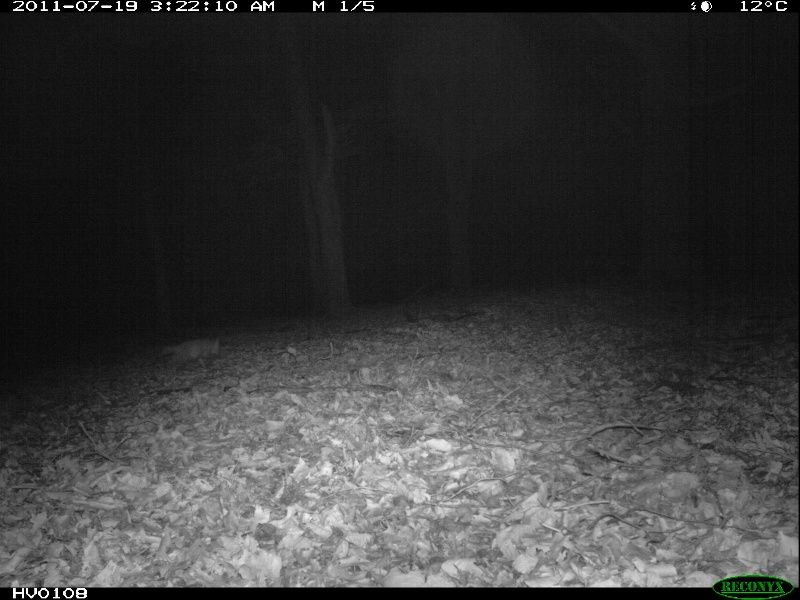fox: (160, 338, 229, 368)
